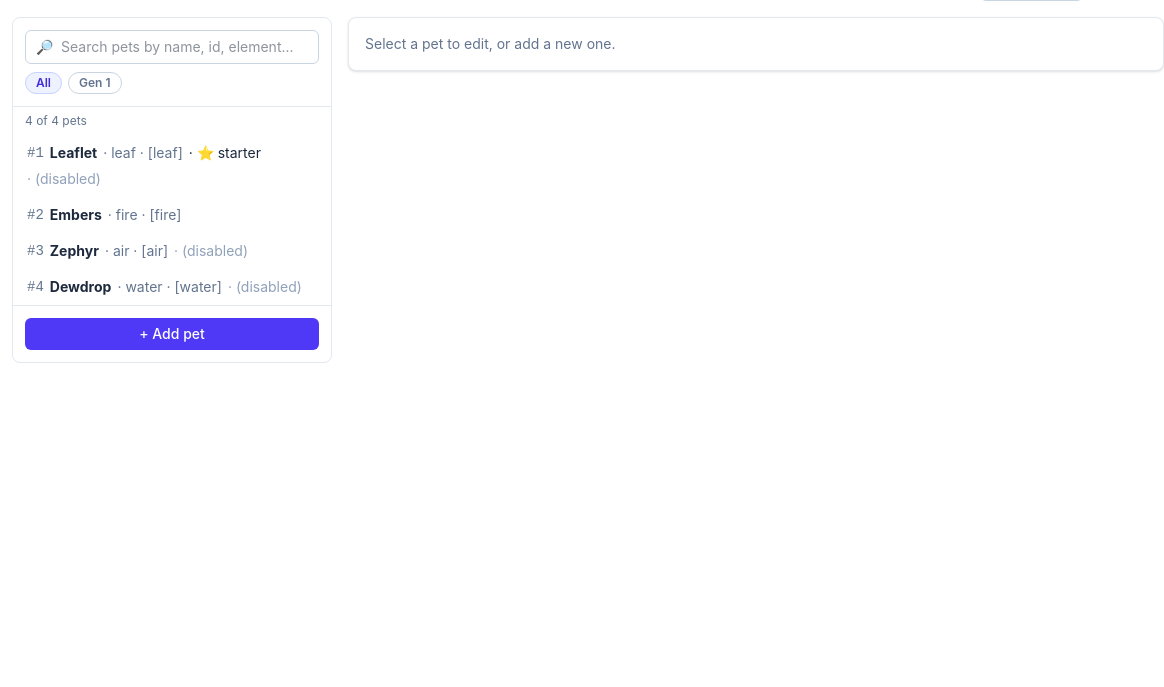
PetsTab — add / delete / filter › Delete is disabled for the last enabled def
Expected: the button "+ Add pet" is shown, x1=25 y1=318 x2=319 y2=350
Step 1. Click the button "#2 Embers · fire · [fire]" → (172, 215), box x1=13 y1=197 x2=331 y2=233
(page scrolled)
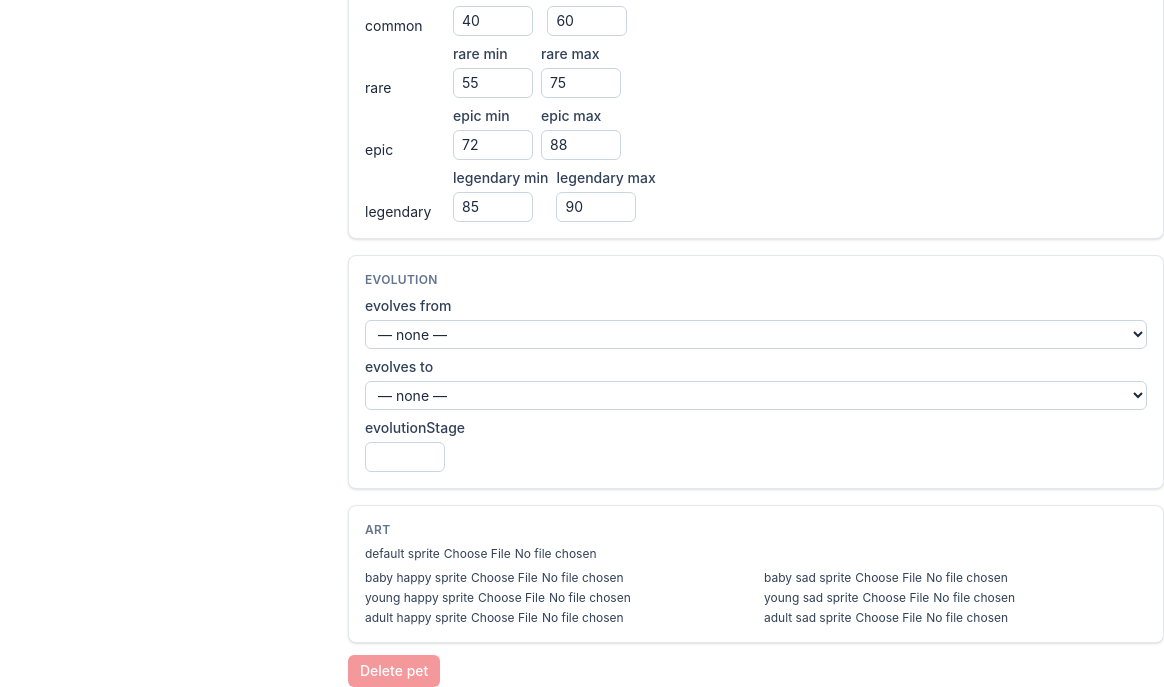
Expected: the button "Delete pet" is disabled, x1=348 y1=655 x2=440 y2=686
